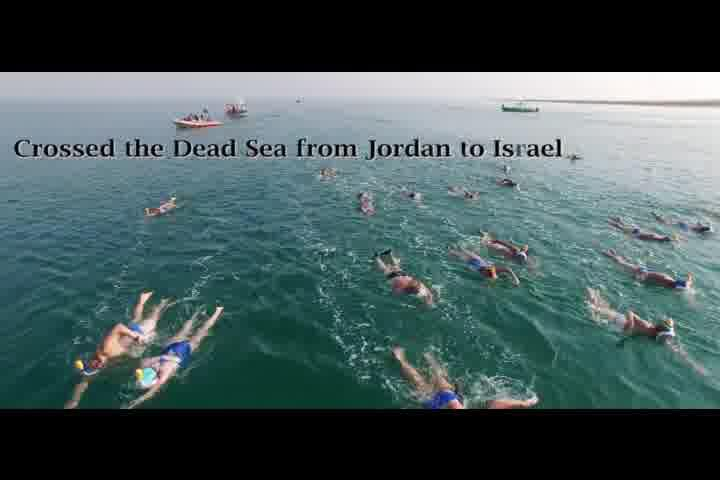human: (61, 289, 174, 398), (133, 306, 220, 406), (579, 284, 690, 352), (396, 344, 479, 411), (605, 247, 698, 290), (370, 246, 430, 304), (611, 208, 675, 248), (482, 229, 533, 268), (460, 249, 503, 282), (137, 192, 179, 218)
